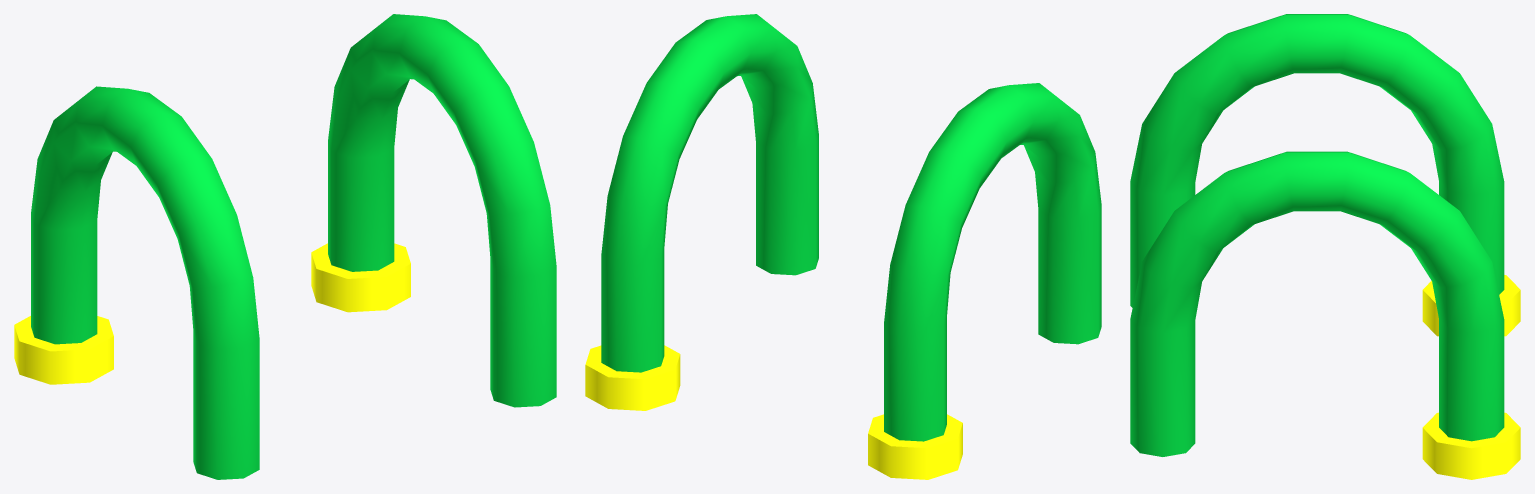
Rendered from LadderTop_01.glb.
The picture shows the model from 3 angles, left to right: view 1: azimuth 30°, elevation 25°; view 2: azimuth 150°, elevation 25°; view 3: azimuth 270°, elevation 25°; orthographic projection. The views are drawn at different scales.
Parts seen in each view (by area): view 1: LadderTop_01; view 2: LadderTop_01; view 3: LadderTop_01.
Boxes of the visible parts, x1=… form: LadderTop_01: x1=14, y1=14, x2=556, y2=479; LadderTop_01: x1=585, y1=14, x2=1101, y2=479; LadderTop_01: x1=1130, y1=14, x2=1520, y2=479.
Size of the model in its own units: 1.3 by 1.04 by 1.2.
Materials: 1 (1 with a texture image).
